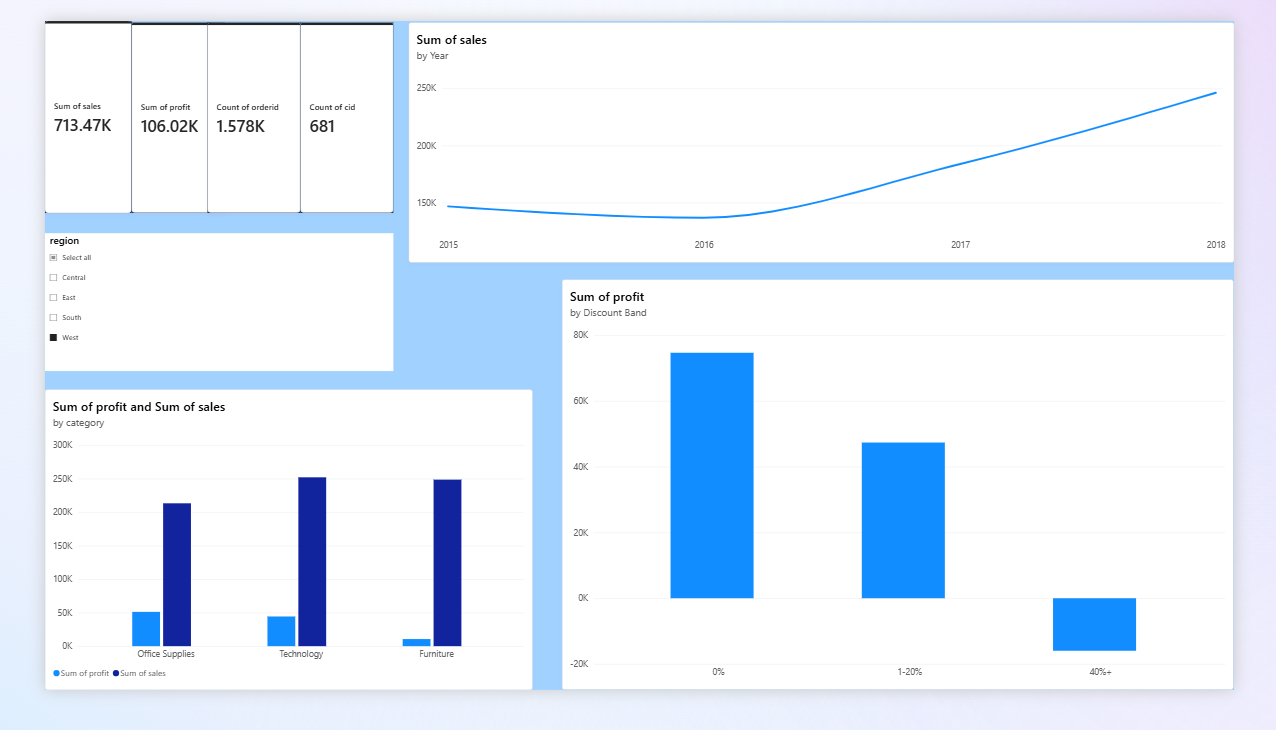

What the dashboard file says about the page in this screenshot:
{"tool":"powerbi","page":{"name":"Page 1","canvas":[1920,1080],"ordinal":0},"visuals":[{"type":"cardVisual","fields":{"Data":["Sum(orders_clean.sales)","Sum(orders_clean.sales)"]},"box":[0,0,140,310],"z":0},{"type":"cardVisual","fields":{"Data":["Sum(orders_clean.profit)"]},"box":[140,2.5,150,307.5],"z":1},{"type":"cardVisual","fields":{"Data":["Count(orders_clean.orderid)"]},"box":[262.5,2.5,150,307.5],"z":2},{"type":"cardVisual","fields":{"Data":["Count(orders_clean.cid)"]},"box":[412.5,2.5,150,307.5],"z":3},{"type":"clusteredColumnChart","fields":{"Category":["orders_clean.category"],"Y":["Sum(orders_clean.profit)","Sum(orders_clean.sales)"]},"box":[0,595,787.5,485],"z":4},{"type":"lineChart","fields":{"Category":["orders_clean.order_date.Variation.Date Hierarchy.Year","orders_clean.order_date.Variation.Date Hierarchy.Month"],"Y":["Sum(orders_clean.sales)"]},"box":[587.5,2.5,1332.5,387.5],"z":5},{"type":"clusteredColumnChart","fields":{"Category":["orders_clean.Discount Band"],"Y":["Sum(orders_clean.profit)"]},"box":[835,417.5,1084,662],"z":6},{"type":"slicer","fields":{"Values":["orders_clean.region"]},"box":[0,342.5,562.5,222.5],"z":7}]}

Visuals, with their boxes in screenshot pixels (x1, y1, x2, y2), scaled from the page's 1920x1080 canvas onto the 1276x730 screenshot:
cardVisual - Sum(orders_clean.sales) x Sum(orders_clean.sales): l=0, t=0, r=93, b=210
cardVisual - Sum(orders_clean.profit): l=93, t=2, r=193, b=210
cardVisual - Count(orders_clean.orderid): l=174, t=2, r=274, b=210
cardVisual - Count(orders_clean.cid): l=274, t=2, r=374, b=210
clusteredColumnChart - orders_clean.category x Sum(orders_clean.profit): l=0, t=402, r=523, b=729
lineChart - orders_clean.order_date.Variation.Date Hierarchy.Year x orders_clean.order_date.Variation.Date Hierarchy.Month: l=390, t=2, r=1275, b=264
clusteredColumnChart - orders_clean.Discount Band x Sum(orders_clean.profit): l=555, t=282, r=1275, b=729
slicer - orders_clean.region: l=0, t=232, r=374, b=382
